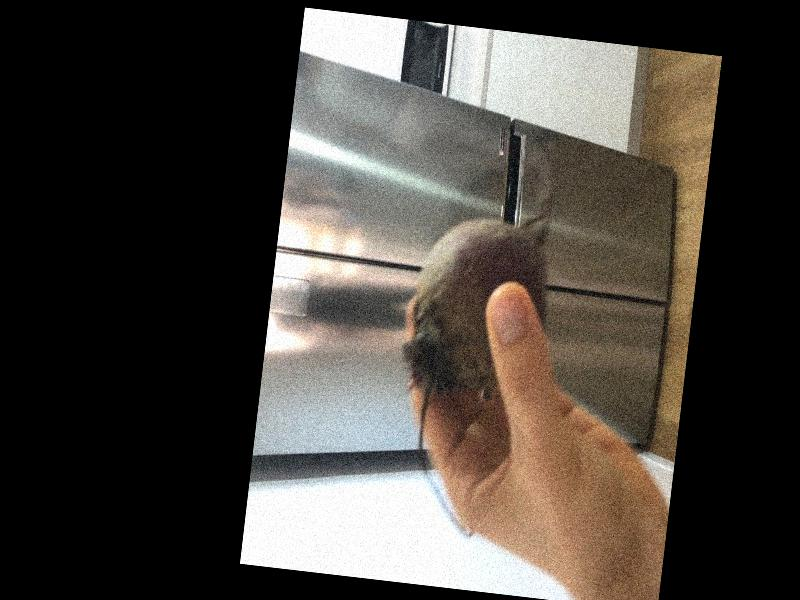Beet: (381, 180, 558, 543)
